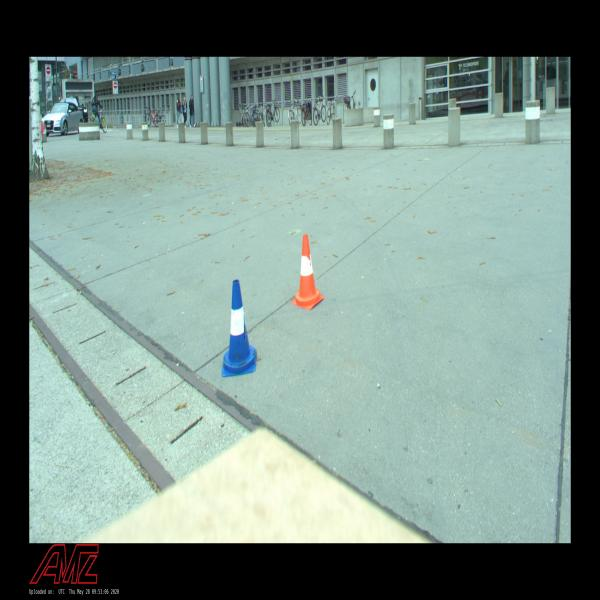blue_cone: (220, 278, 258, 376)
orange_cone: (291, 234, 324, 310)
